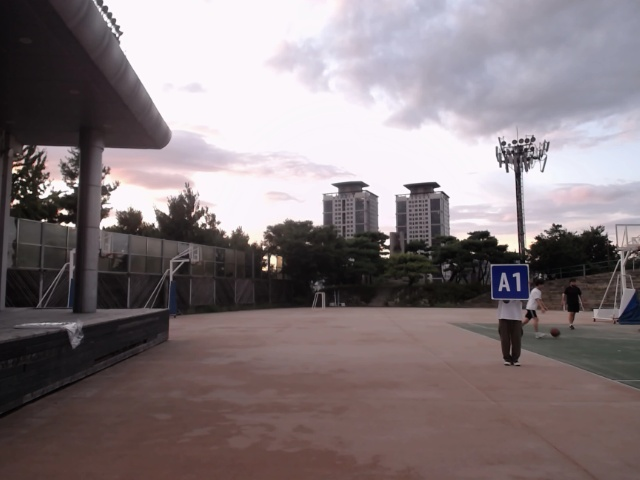delivery_a1: (492, 265, 529, 300)
